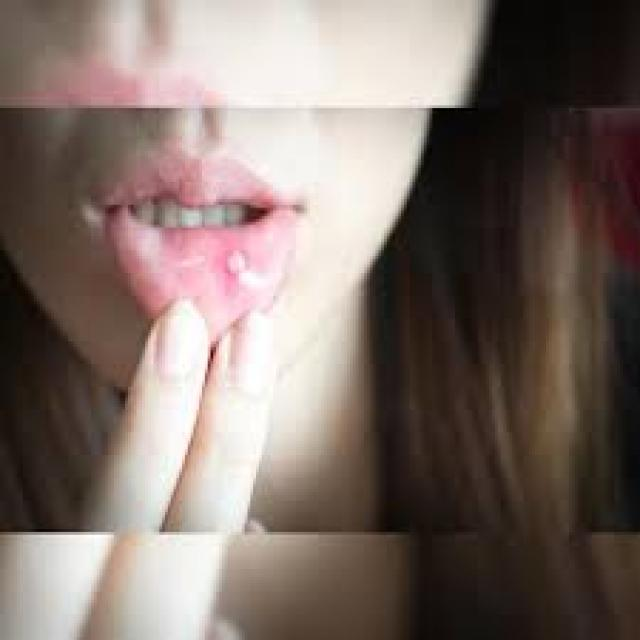processing_area: (107, 214, 293, 332)
ulcer-detection: (205, 232, 264, 290)
